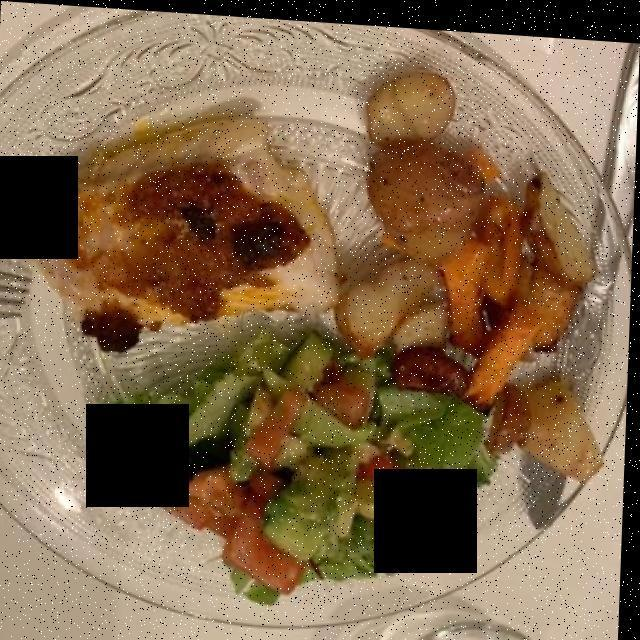baked-potato: (335, 47, 612, 470)
fish: (25, 118, 344, 341)
salad: (127, 332, 486, 593)
sweet-potato: (383, 166, 533, 391)
tomato: (147, 373, 440, 593)
